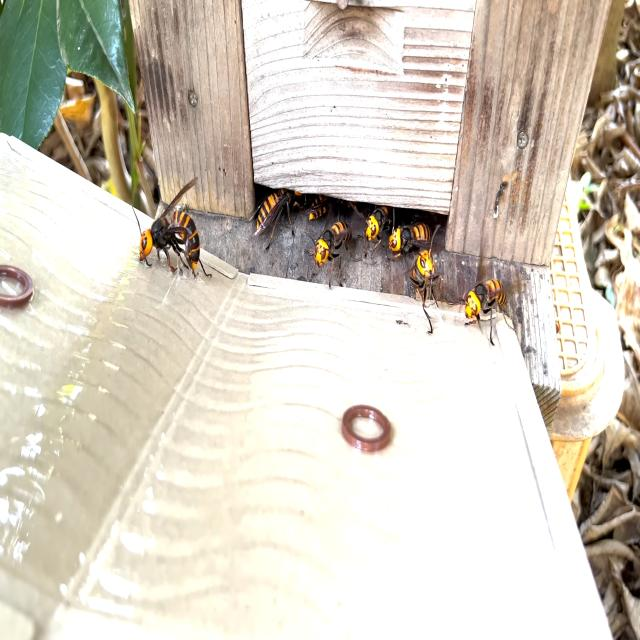Hornets: (131, 178, 210, 279), (404, 228, 444, 338), (456, 276, 516, 348), (308, 214, 362, 286), (387, 204, 431, 260), (362, 203, 388, 247)
